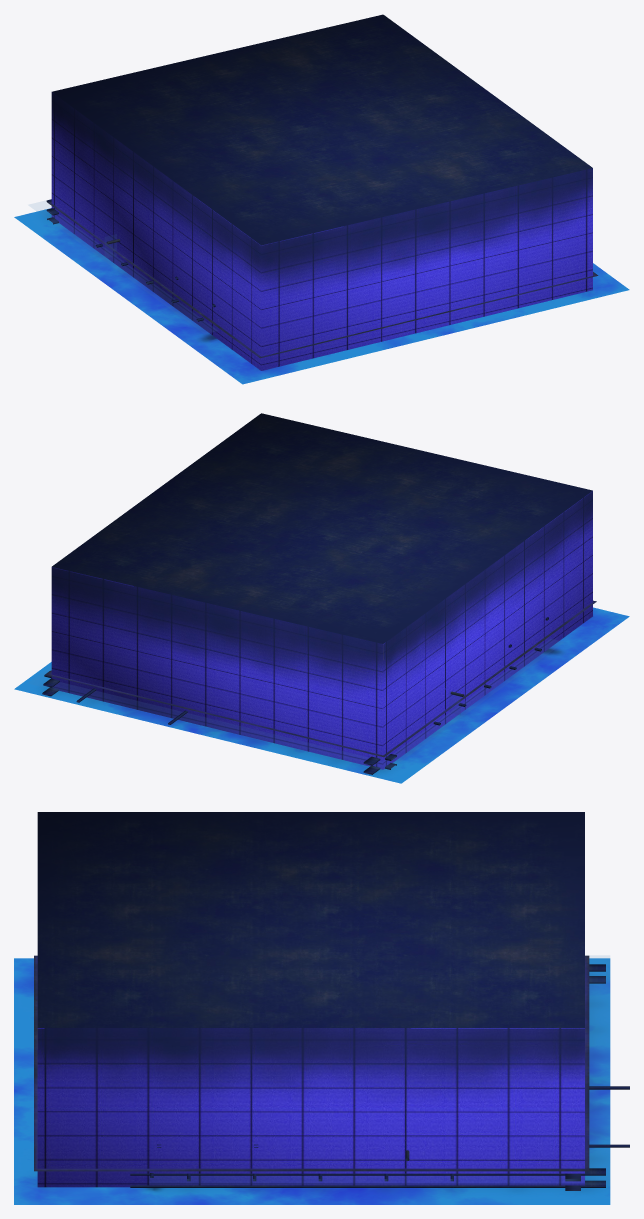
Rendered from ShuiYue_HH6.obj.
3 views of the same model, one above another, from view 1: azimuth 30°, elevation 25°; view 2: azimuth 150°, elevation 25°; view 3: azimuth 270°, elevation 25° (orthographic). The views are drawn at different scales.
Visible parts, largest first — view 1: Qiang, pPlane1, pPlane2; view 2: Qiang, pPlane1, pPlane2; view 3: Qiang, pPlane1, pPlane2, 005, 004.
Part boxes in pixels (x1,y1,x2,y2): Qiang: (47,14,598,370); pPlane1: (14,208,629,384); pPlane2: (29,201,216,333); Qiang: (46,413,596,769); pPlane1: (14,607,629,783); pPlane2: (29,639,562,770); Qiang: (34,812,589,1187); pPlane1: (14,958,610,1204); pPlane2: (149,956,609,1183); 005: (130,976,605,1187); 004: (130,964,605,1175).
Bounding box in the file's own units: 417 × 136 × 440.
